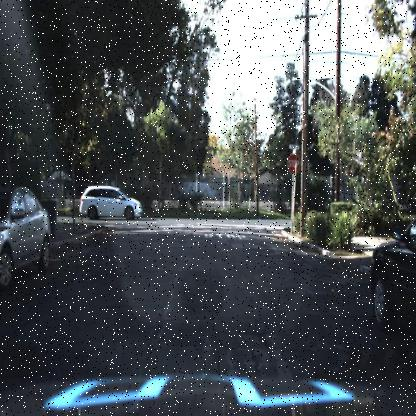car: (368, 206, 415, 346), (1, 184, 52, 295), (61, 180, 156, 228), (75, 185, 145, 219)
